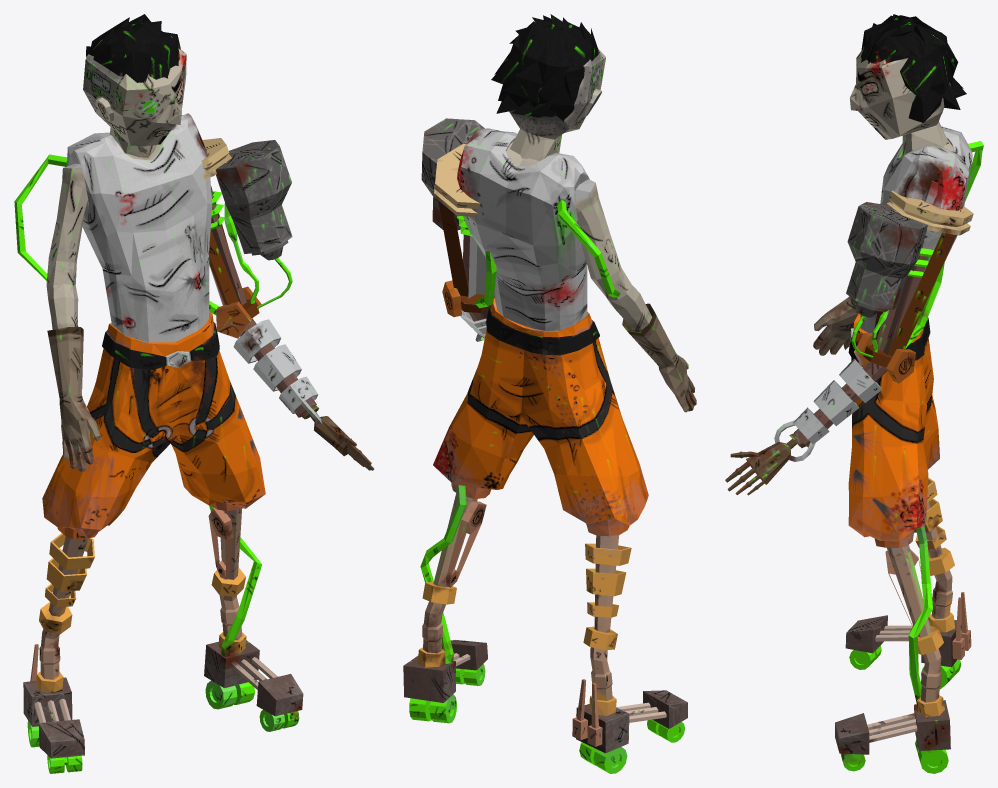
The model's file is CyborgFINALAnimation_000004.obj.
3 renders of one model, left to right at view 1: azimuth 30°, elevation 25°; view 2: azimuth 150°, elevation 25°; view 3: azimuth 270°, elevation 25°, orthographic. The views are drawn at different scales.
Parts seen in each view (by area): view 1: CyborgMesh_Cube.002; view 2: CyborgMesh_Cube.002; view 3: CyborgMesh_Cube.002.
Boxes of the visible parts, box(x1,y1,x2,y2) form: CyborgMesh_Cube.002: box(14, 14, 374, 773); CyborgMesh_Cube.002: box(403, 14, 696, 773); CyborgMesh_Cube.002: box(725, 14, 983, 773).
Size of the model in its own units: 3.6 by 9.63 by 3.23.
